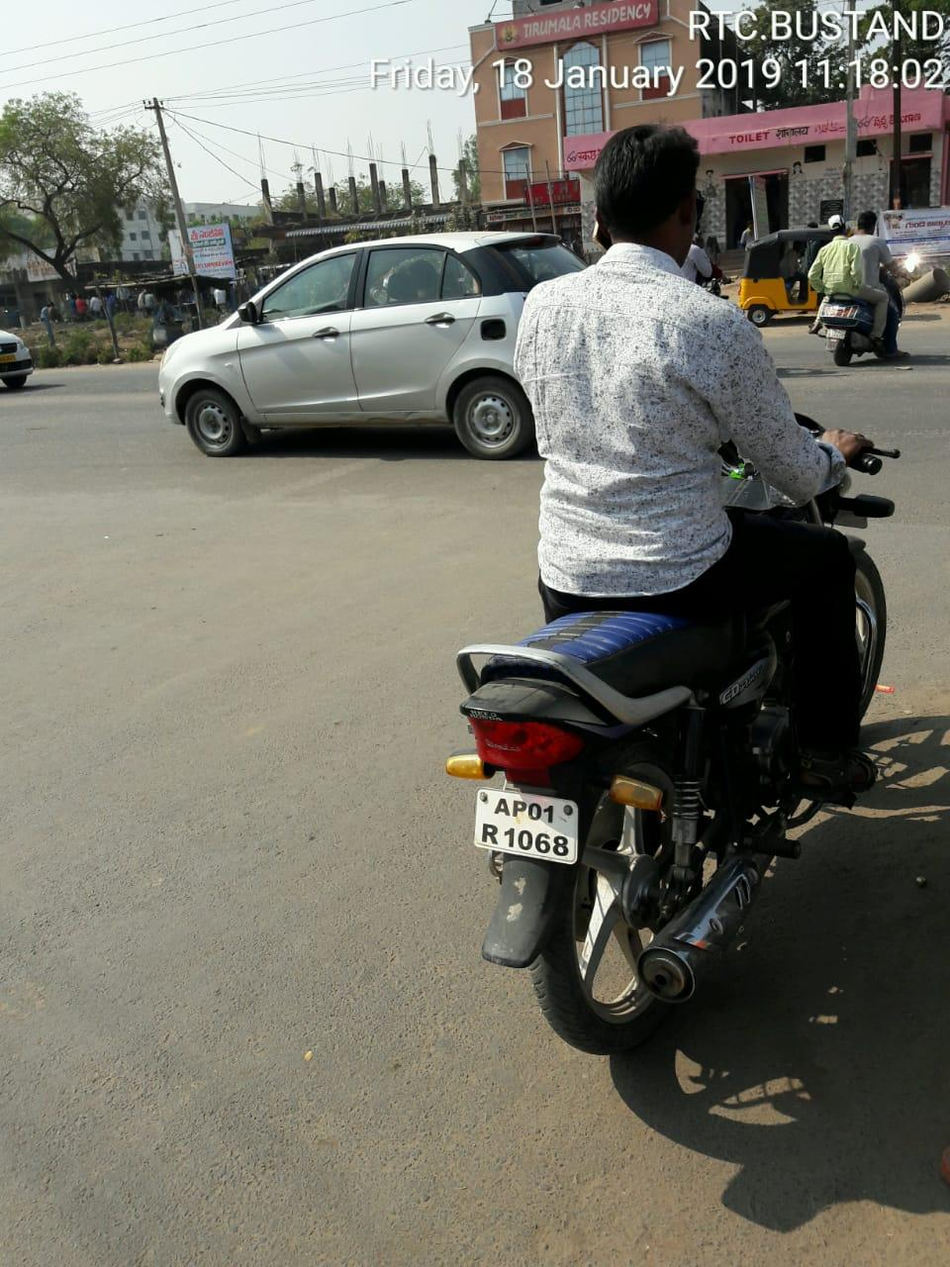plate: (470, 782, 587, 875)
